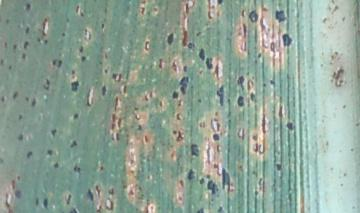tarspot: (220, 166, 232, 195), (205, 178, 218, 194), (216, 84, 225, 107), (179, 75, 189, 95), (274, 8, 286, 24), (281, 33, 293, 49), (236, 75, 246, 94), (103, 195, 115, 210), (247, 8, 258, 24), (189, 143, 200, 158), (84, 188, 95, 203), (41, 17, 49, 37), (110, 71, 123, 83), (69, 79, 80, 93), (185, 167, 196, 181), (85, 87, 92, 109), (213, 61, 220, 82), (165, 32, 175, 46), (94, 183, 102, 200), (205, 1, 212, 20), (181, 28, 188, 47), (51, 57, 63, 68), (236, 95, 246, 108), (249, 132, 260, 143), (277, 104, 285, 119), (184, 1, 191, 18), (41, 77, 50, 90), (197, 47, 205, 61), (205, 56, 213, 70), (113, 96, 120, 112), (285, 121, 296, 131), (12, 188, 22, 199), (49, 127, 59, 138), (248, 91, 257, 103), (143, 39, 150, 53), (128, 184, 135, 198), (175, 130, 183, 142), (33, 195, 41, 207), (215, 204, 225, 213), (177, 179, 186, 189), (241, 23, 247, 38), (64, 193, 72, 204), (274, 161, 282, 172), (23, 25, 31, 36), (94, 202, 102, 213), (251, 142, 259, 153), (30, 96, 37, 108), (157, 56, 163, 70), (168, 148, 175, 160), (16, 132, 25, 141), (24, 3, 33, 12), (171, 90, 179, 100), (69, 139, 77, 149), (170, 127, 178, 137), (134, 112, 142, 122), (197, 119, 205, 129), (67, 207, 80, 213), (171, 60, 177, 73), (42, 197, 49, 208), (139, 5, 146, 16), (116, 117, 123, 128), (110, 121, 117, 132), (101, 83, 106, 98), (212, 133, 221, 141), (72, 112, 80, 121), (79, 54, 87, 63), (72, 164, 81, 172), (45, 148, 54, 156), (20, 51, 28, 60), (107, 186, 115, 195), (215, 121, 221, 133), (12, 90, 19, 100), (60, 30, 67, 40), (2, 40, 9, 50), (174, 111, 181, 121), (110, 111, 116, 122), (52, 161, 60, 169), (25, 150, 33, 158), (21, 40, 29, 48), (11, 42, 19, 50), (22, 96, 30, 104), (99, 22, 106, 31), (195, 206, 204, 213), (182, 64, 188, 74), (78, 44, 84, 54), (240, 9, 246, 19), (74, 4, 80, 14), (122, 83, 127, 95), (69, 68, 77, 75), (4, 17, 11, 25), (194, 30, 202, 37), (261, 82, 268, 90), (147, 89, 152, 100), (187, 41, 193, 50), (143, 134, 149, 143), (136, 123, 142, 132), (253, 187, 258, 197), (198, 177, 205, 184), (42, 38, 49, 45), (98, 165, 105, 172), (6, 64, 13, 71), (17, 113, 23, 121), (35, 36, 41, 44), (256, 52, 262, 60), (177, 99, 183, 107), (1, 94, 6, 103), (158, 99, 163, 108), (143, 93, 148, 102), (269, 78, 275, 85), (78, 10, 84, 17), (216, 1, 224, 6), (103, 67, 108, 75), (115, 131, 120, 139), (1, 156, 4, 168), (205, 173, 211, 179), (152, 7, 159, 12), (196, 98, 203, 103), (1, 58, 5, 66)
